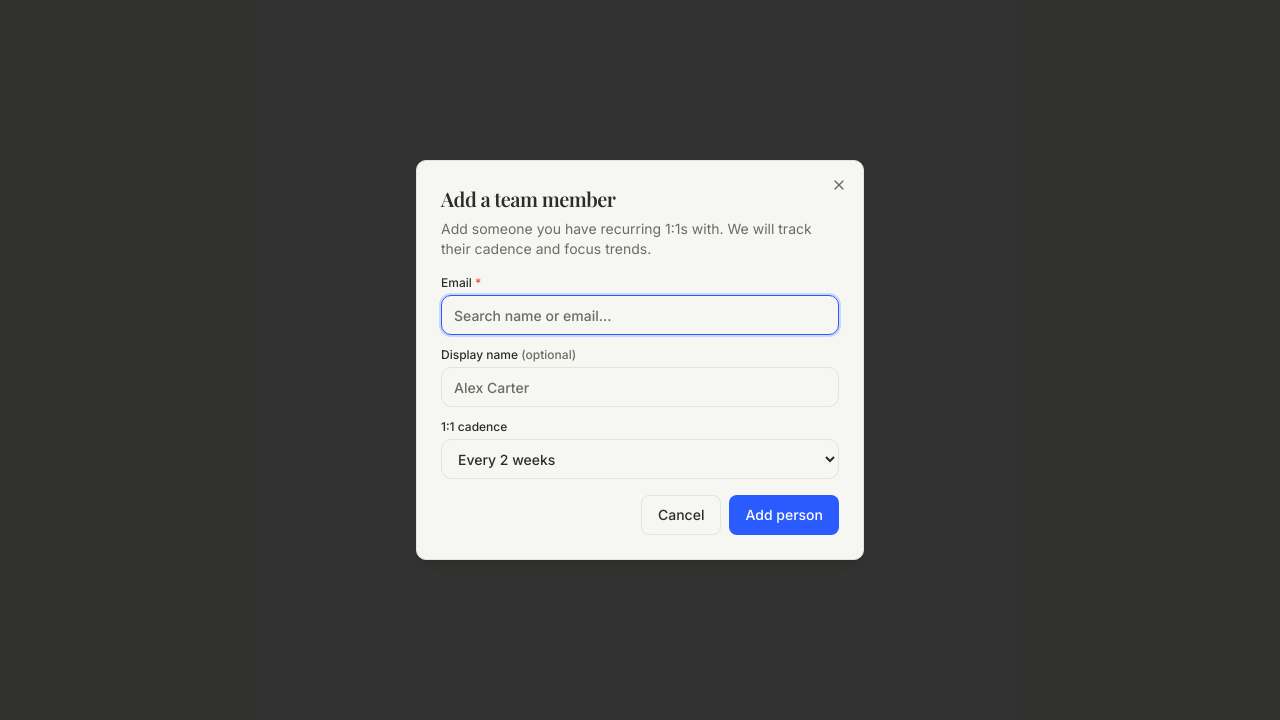
Test: AddPersonDialog › prefills the display name from the selected calendar contact
Type "milos" into the dropdown labelled "Email".
click(640, 315); type("milos")  # box [441, 295, 839, 335]
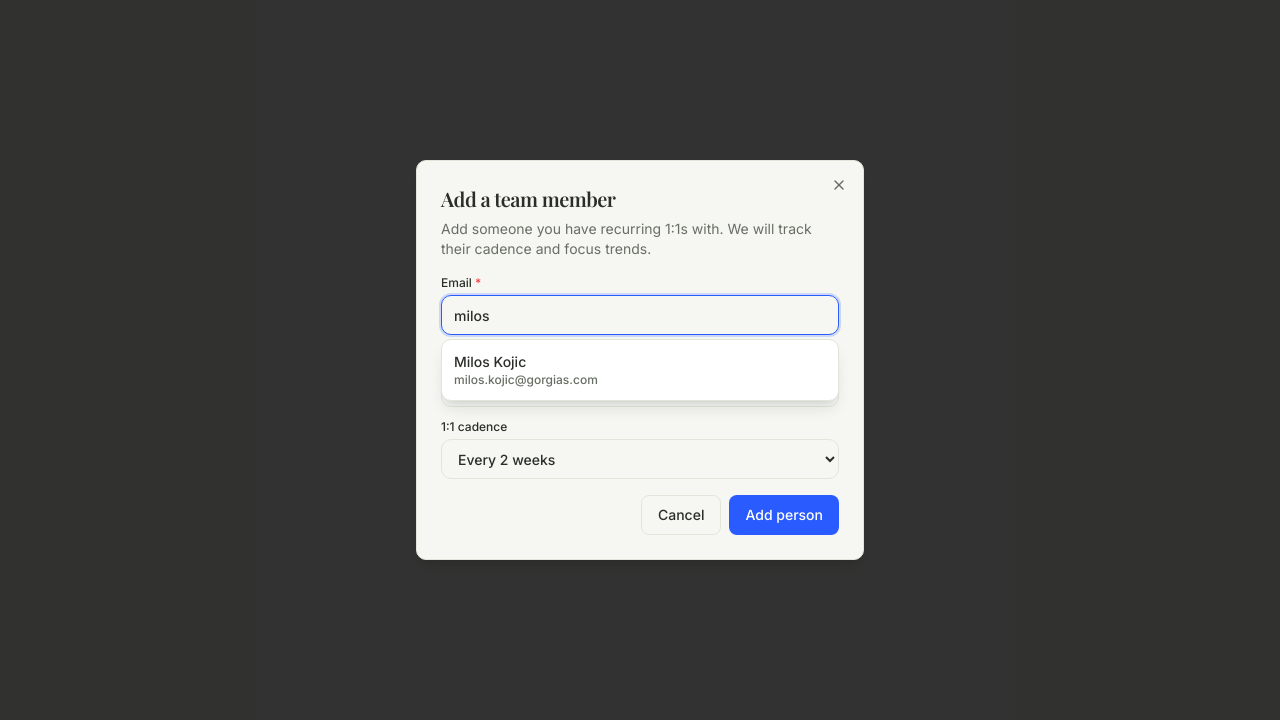
Click the button "Milos Kojic milos.kojic@gorgias.com".
click(490, 362)  # box [442, 344, 838, 396]
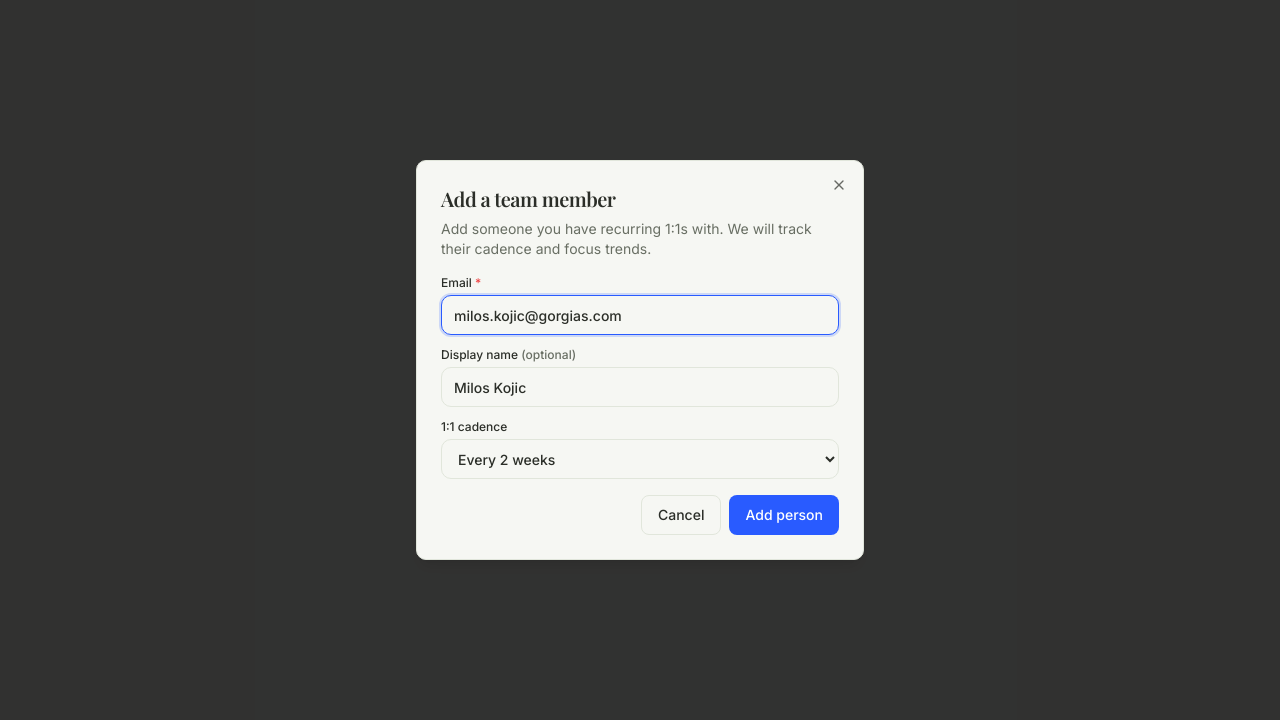
Check: the dropdown labelled "Email" holds "milos.kojic@gorgias.com", box [441, 295, 839, 335]
Check: the field with placeholder "Alex Carter" holds "Milos Kojic", box [441, 367, 839, 407]
